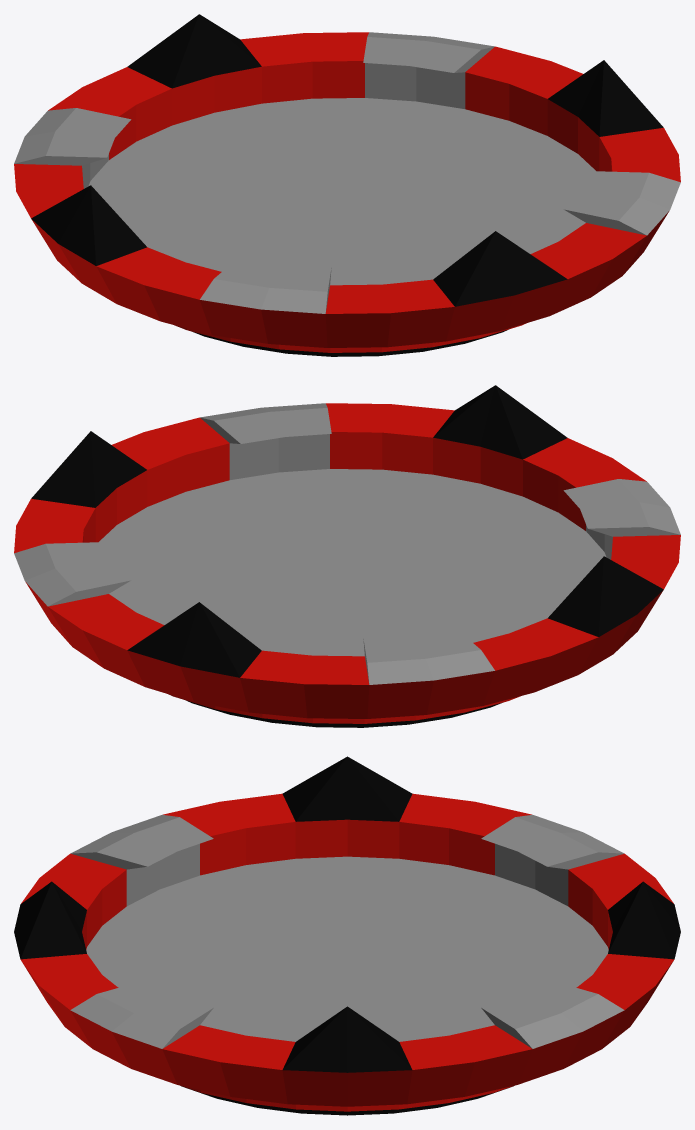
Rendered from warp.fbx.
3 views of the same model, one above another, from view 1: azimuth 30°, elevation 25°; view 2: azimuth 150°, elevation 25°; view 3: azimuth 270°, elevation 25° (orthographic).
Visible parts, largest first — view 1: warp weapon; view 2: warp weapon; view 3: warp weapon.
Part boxes in pixels (box(x1,y1,x2,y2)): warp weapon: box(14, 14, 680, 356); warp weapon: box(14, 385, 680, 727); warp weapon: box(14, 756, 680, 1115).
Bounding box in the file's own units: 218 × 48.62 × 218.
